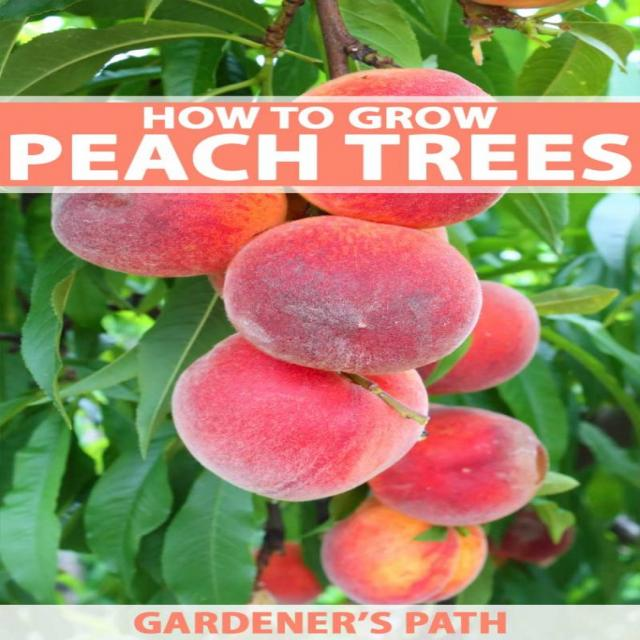Peach: (3, 187, 640, 604)
